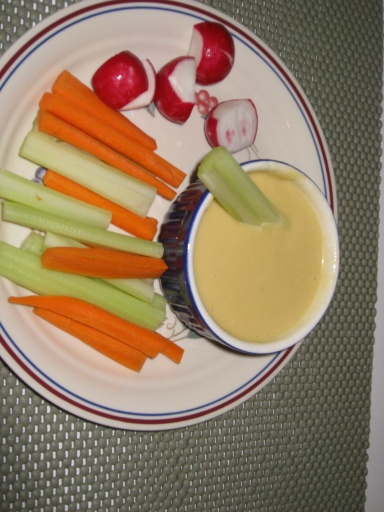background: (0, 16, 142, 298), (81, 78, 196, 274)
